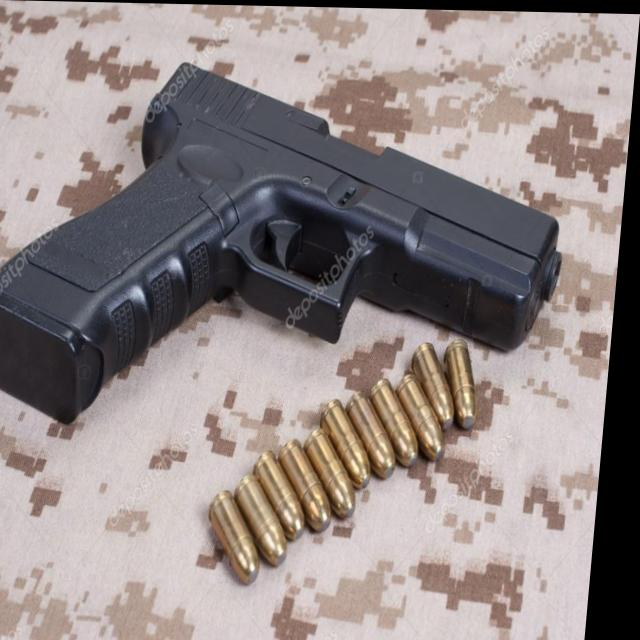handgun: (0, 51, 585, 485)
